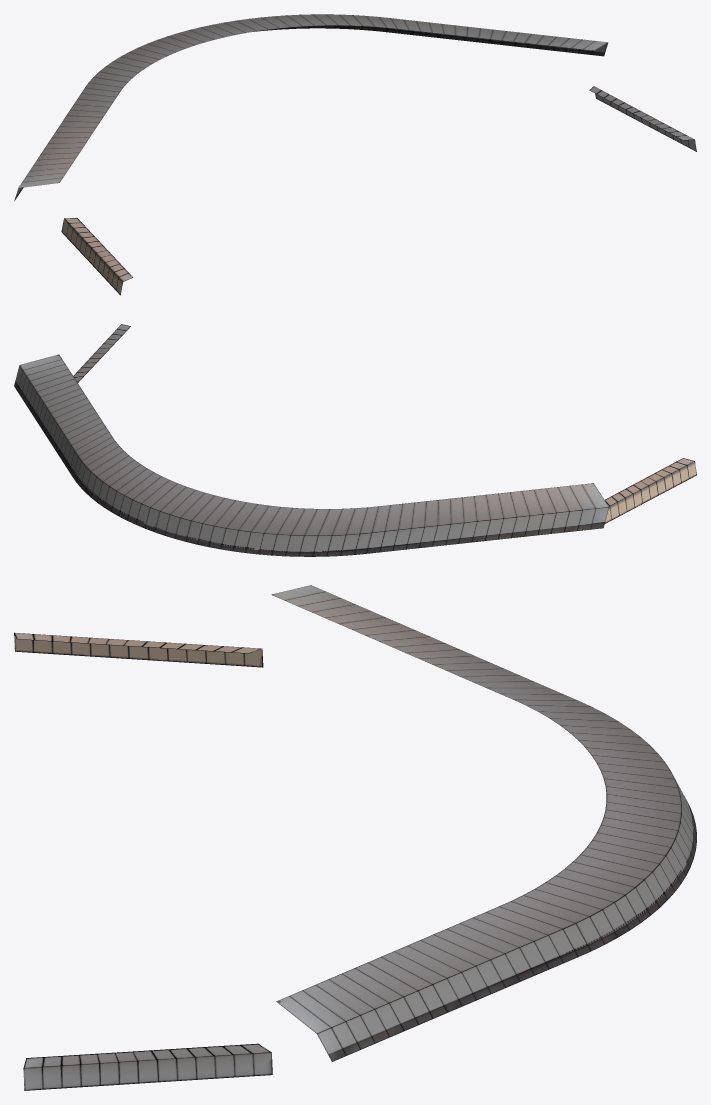
The model's file is Roof.fbx.
3 renders of one model, top to bottom at view 1: azimuth 30°, elevation 25°; view 2: azimuth 150°, elevation 25°; view 3: azimuth 270°, elevation 25°, orthographic. The views are drawn at different scales.
Visible parts, largest first — view 1: Roof; view 2: Roof; view 3: Roof.
Boxes of the visible parts, box(x1,y1,x2,y2) form: Roof: box(14, 14, 696, 295); Roof: box(14, 324, 696, 556); Roof: box(14, 585, 696, 1090).
Size of the model in its own units: 9454 by 718 by 6074.
Materials: 1 (1 with a texture image).
